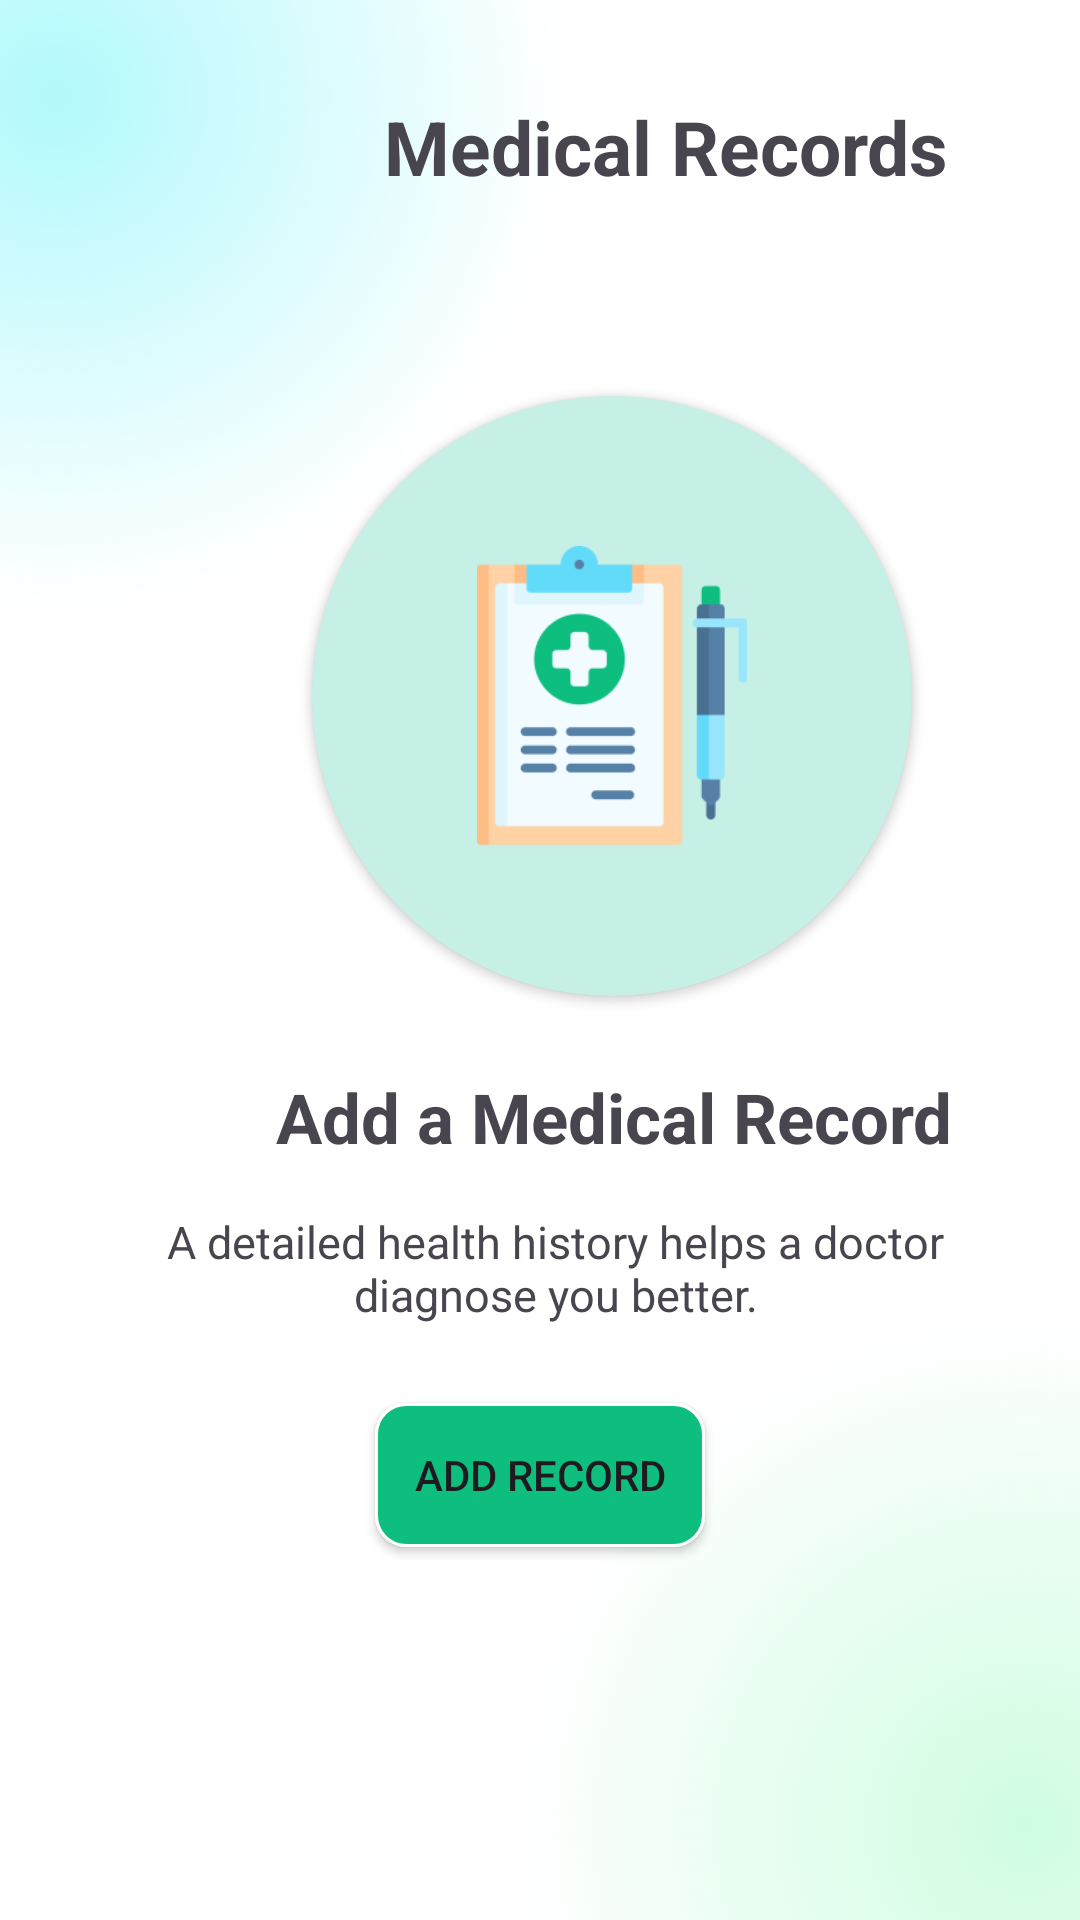

Icons on this 1080 x 1920 Android screen, each with its box as [left=x1, top=y1, right=x2, bottom=y2]:
add record: [left=477, top=546, right=747, bottom=845]
